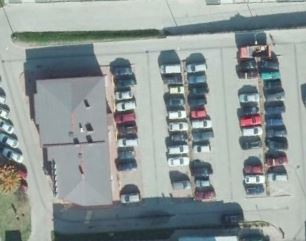block of flats: (28, 76, 118, 209)
